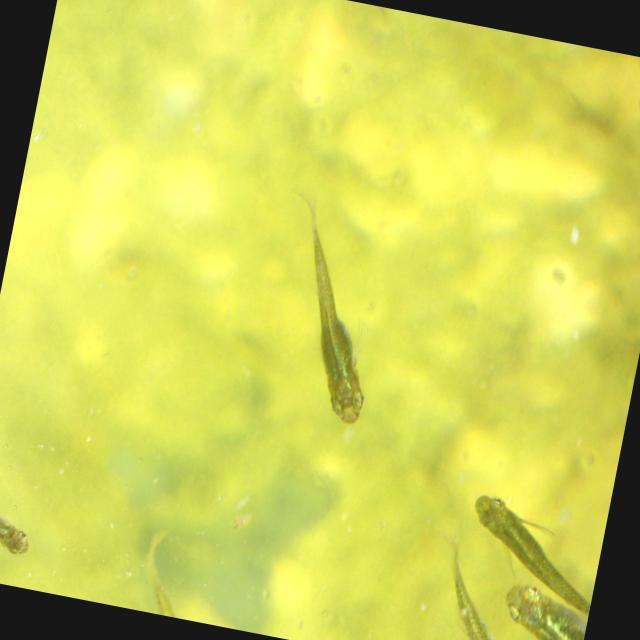Sivrisinek Baligi: (272, 190, 404, 428), (456, 489, 602, 616), (487, 576, 592, 640), (0, 477, 39, 558), (619, 55, 640, 138)
